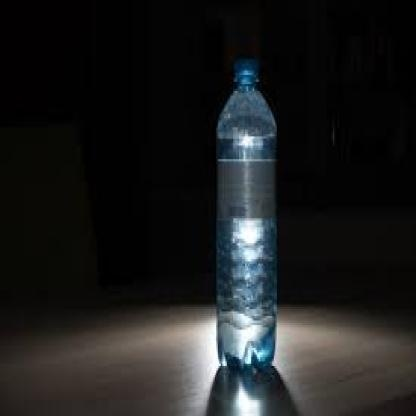trash: (216, 59, 276, 365)
